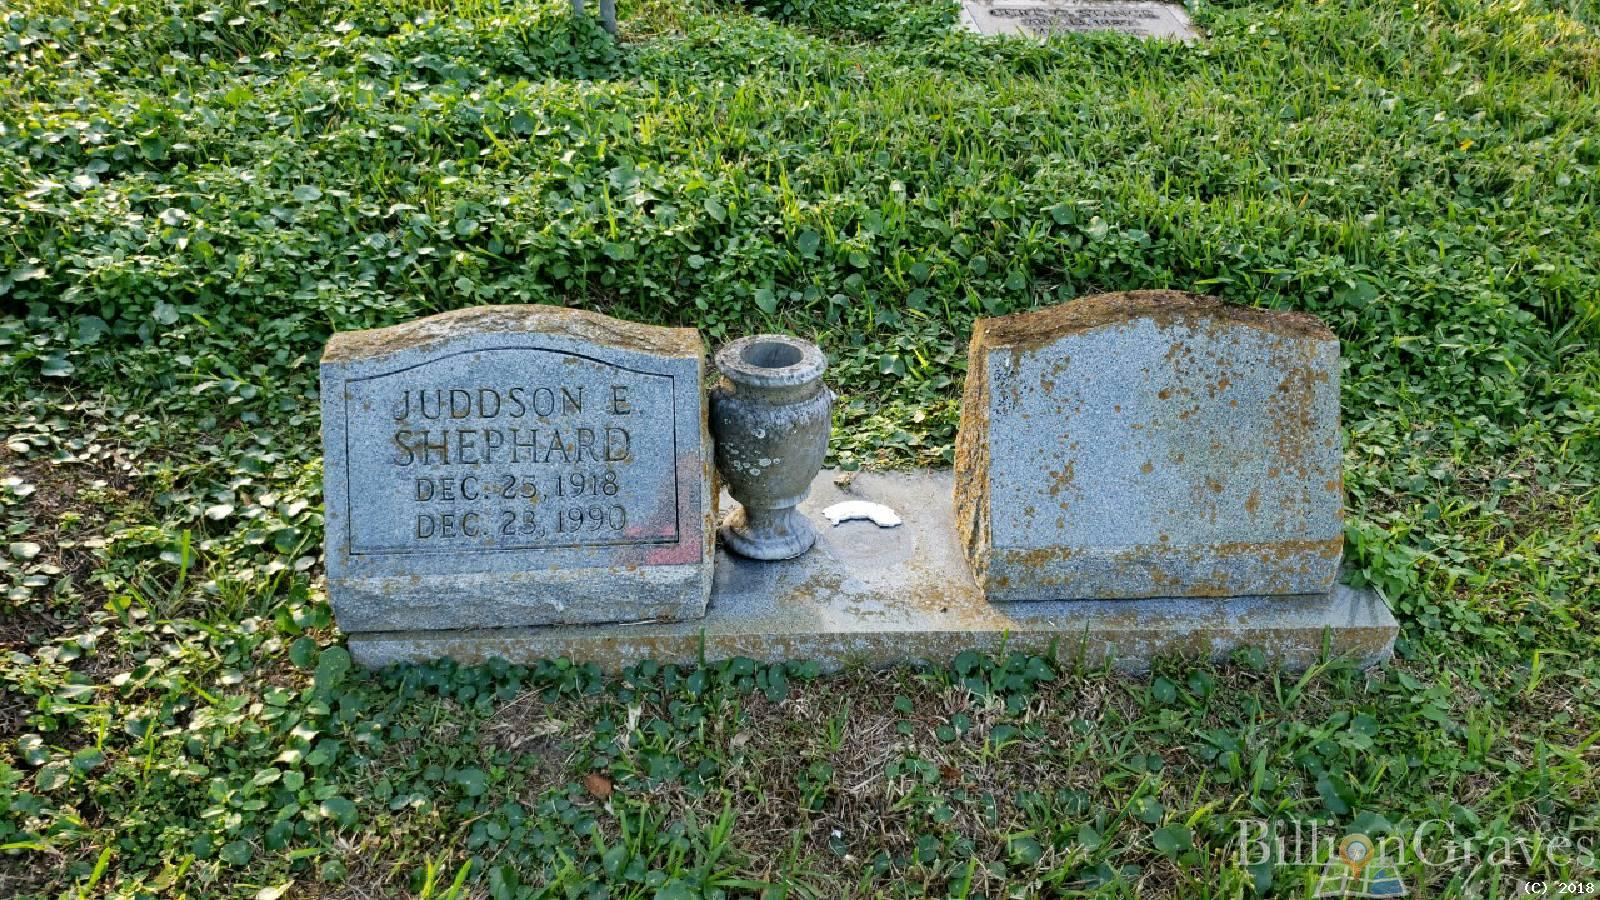slant: (314, 285, 1404, 668)
